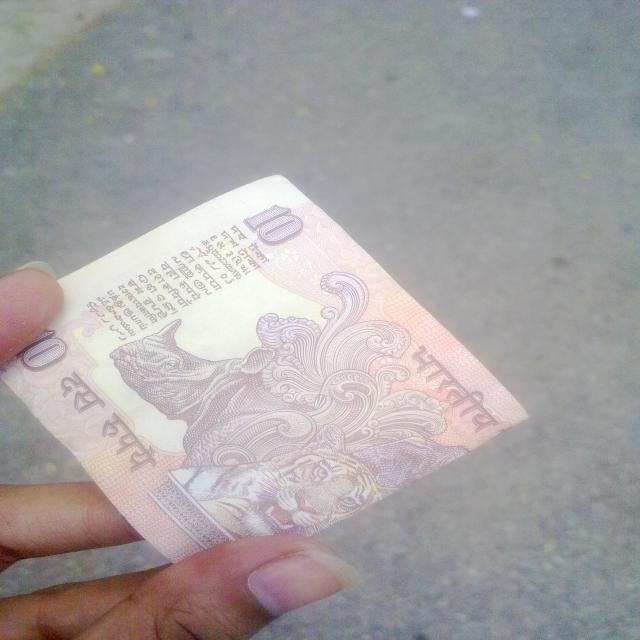10rs: (2, 170, 532, 576)
